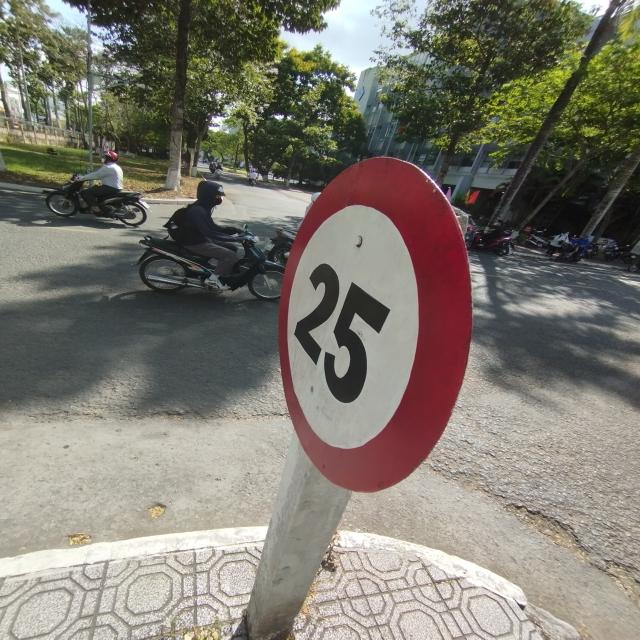Tre_Em: (277, 155, 474, 496)
